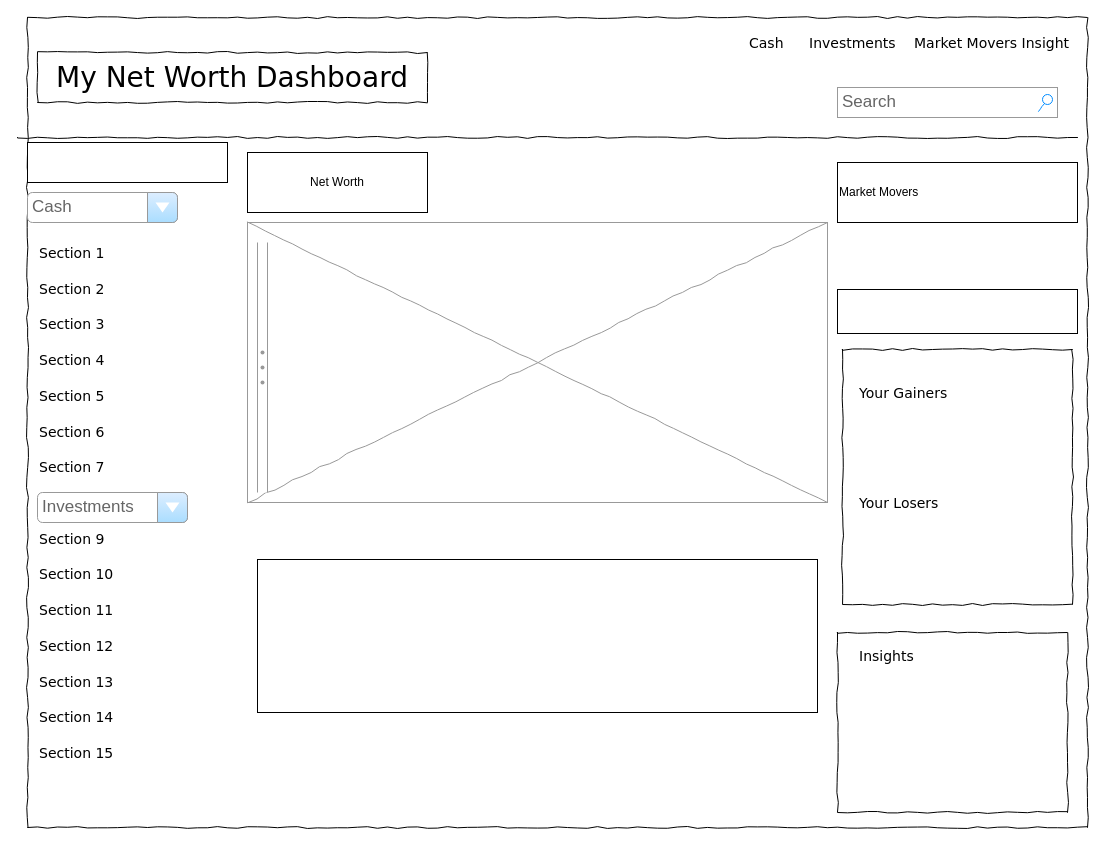
Image size: 1105x845. Some labels were removed from this diagram. Here are the shapes that lost their labels. From the top down, the centre of each, then its label:
At point (127, 162): "Net Worth: $2,317,000".
At point (957, 311): "Your Holdings : % Here".
At point (537, 635): "***This area can be for income".
